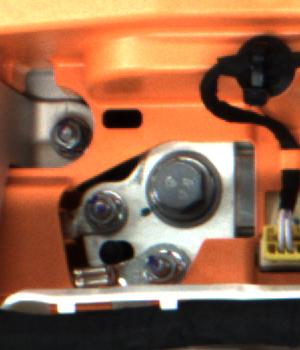nut_b: (140, 146, 222, 225)
screw_s: (39, 114, 92, 158), (75, 184, 121, 232), (145, 246, 180, 286)
